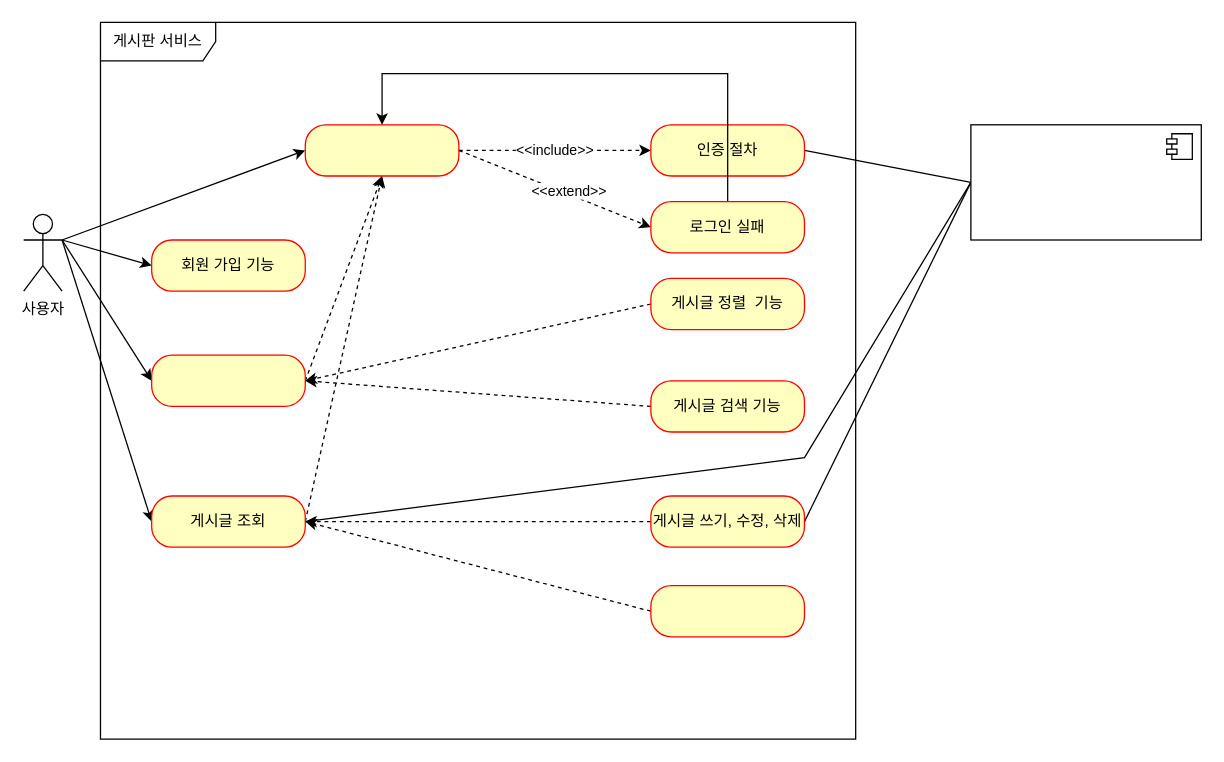
Some shapes in this 1224 by 762 pixel diagram are drawn without their labels. The centre of each missing label's shape, as x and y in pixels:
"Data Base" belongs at pixel 1085 182.
"게시판 조회" belongs at pixel 227 380.
"댓글 쓰기, 수정 삭제" belongs at pixel 727 610.
"로그인 기능" belongs at pixel 381 150.
